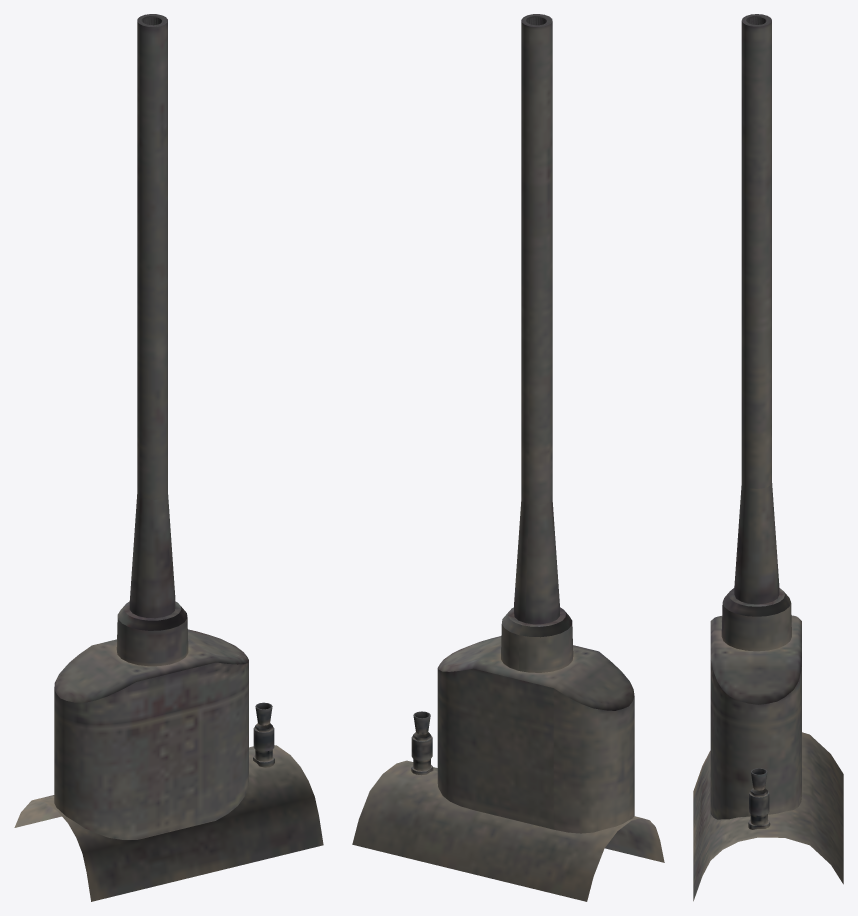
The model's file is Gun_02.glb.
3 views of the same model, side by side, from view 1: azimuth 30°, elevation 25°; view 2: azimuth 150°, elevation 25°; view 3: azimuth 270°, elevation 25° (orthographic). The views are drawn at different scales.
Parts seen in each view (by area): view 1: set_0_group_0; view 2: set_0_group_0; view 3: set_0_group_0.
Part boxes in pixels (<box>): set_0_group_0: <box>14,14,323,901</box>; set_0_group_0: <box>352,14,664,901</box>; set_0_group_0: <box>693,14,843,901</box>.
Bounding box in the file's own units: 0.6853 × 2.35 × 0.3923.
1 material, 1 textured.
